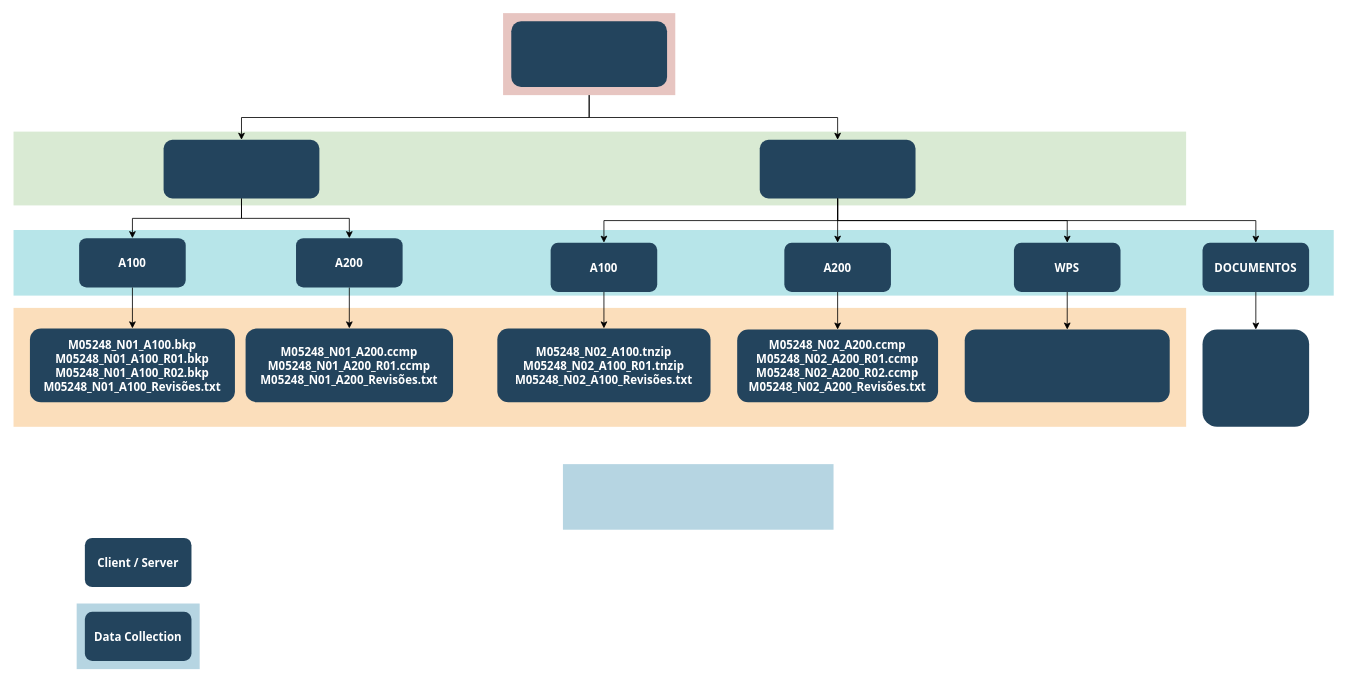
This 1347x682 diagram has some shape labels left out. Each missing label, with the centre of its shape:
"M05248" goes at pixel 589 54.
"M05248_N01" goes at pixel 241 168.
"M05248_N02" goes at pixel 837 168.
"M05248_N02_WPS.bkp M05248_N02_WPS_Revisões.txt" goes at pixel 1066 365.
"Manuais Parâmetros Diagramas Atas Orçamentos Lições aprendidas" goes at pixel 1255 377.
